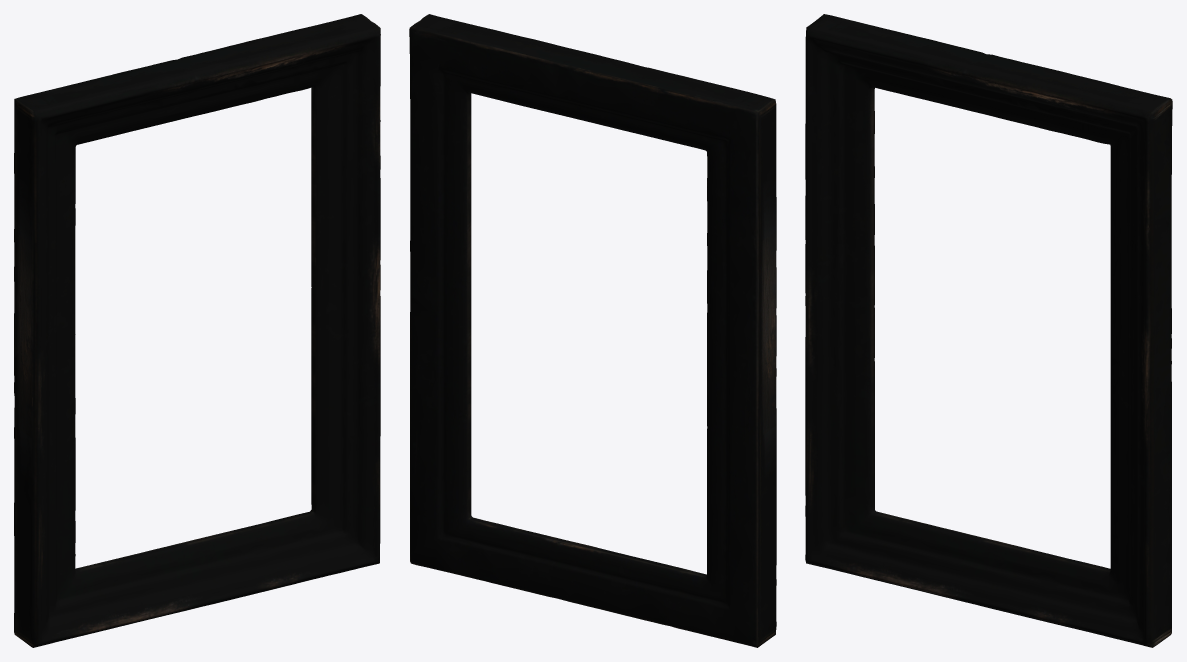
The model's file is A_modern_style_pictur_1127232018_texture.fbx.
3 views of the same model, side by side, from view 1: azimuth 30°, elevation 25°; view 2: azimuth 150°, elevation 25°; view 3: azimuth 330°, elevation 25° (orthographic).
Parts seen in each view (by area): view 1: Mesh_0; view 2: Mesh_0; view 3: Mesh_0.
Part boxes in pixels (x1,y1,x2,y2): Mesh_0: (14,14,380,647); Mesh_0: (409,14,776,647); Mesh_0: (805,14,1172,647).
Size of the model in its own units: 136 by 201 by 14.8.
Materials: 1 (1 with a texture image).
